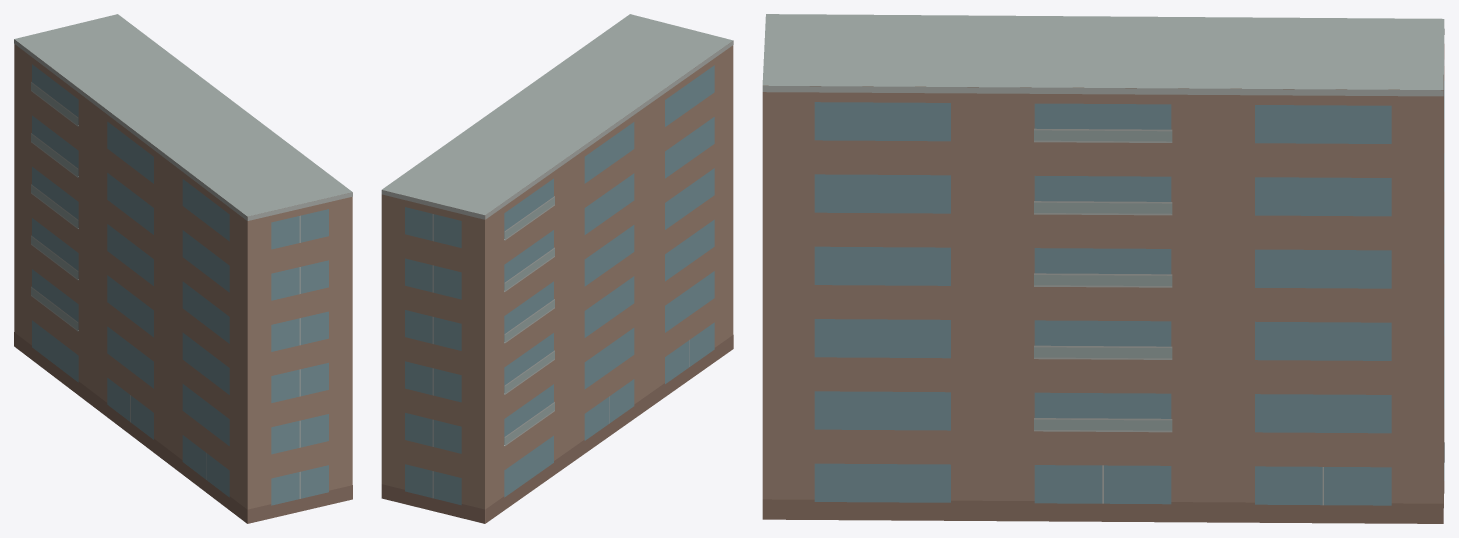
File: survey-upis-32727942.glb
3 renders of one model, left to right at view 1: azimuth 30°, elevation 25°; view 2: azimuth 150°, elevation 25°; view 3: azimuth 270°, elevation 25°, orthographic. The views are drawn at different scales.
Visible parts, largest first — view 1: survey-upis-32727942.tmp; view 2: survey-upis-32727942.tmp; view 3: survey-upis-32727942.tmp.
Boxes of the visible parts, x1,y1,x2,y2 form: survey-upis-32727942.tmp: [14, 14, 352, 523]; survey-upis-32727942.tmp: [381, 14, 733, 523]; survey-upis-32727942.tmp: [762, 14, 1444, 523].
Bounding box in the file's own units: 6.25 × 16.6 × 23.66.
